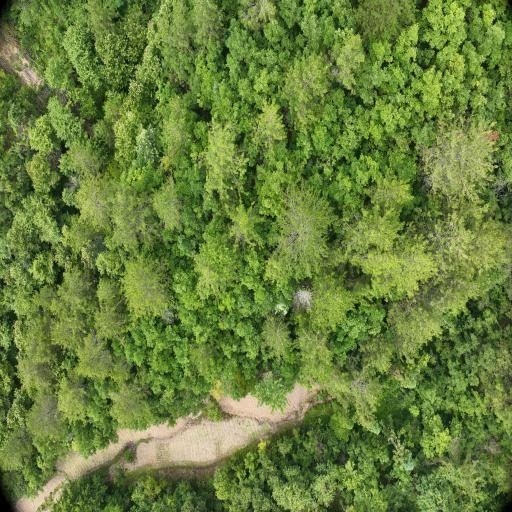dead-tree: (297, 290, 310, 305)
